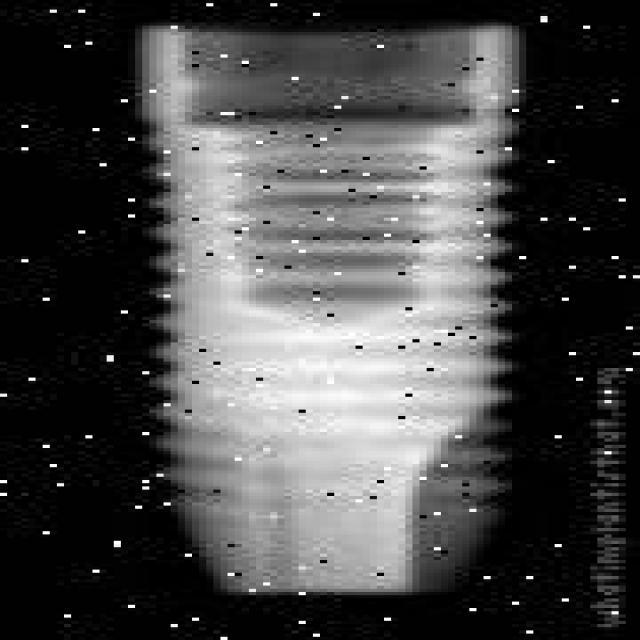OCO Biomedical Implant: (140, 26, 526, 603)
